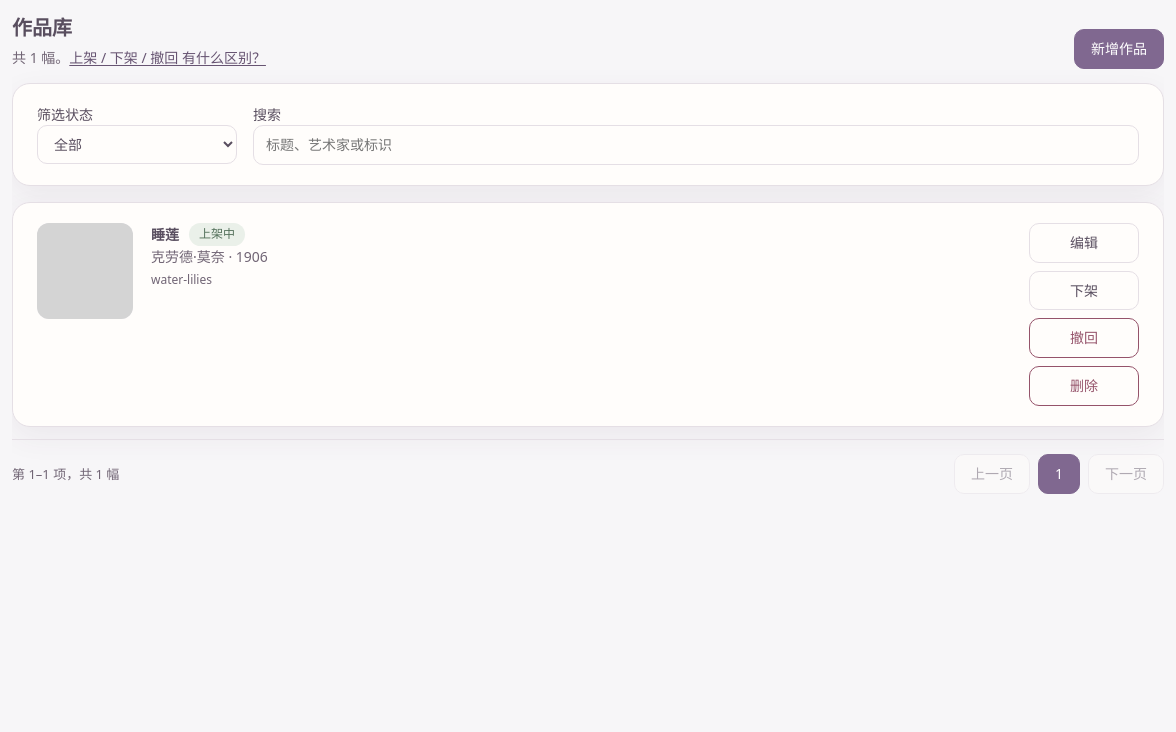
Test: 上架 / 下架 / 撤回的区别说明 › 默认收起，点了才展开
The width and height of the screenshot is (1176, 732).
Check: the text "已收藏的用户仍然能看到自己那幅" is not shown
Click the button "上架 / 下架 / 撤回 有什么区别？" at (168, 58), box [69,47,266,69]
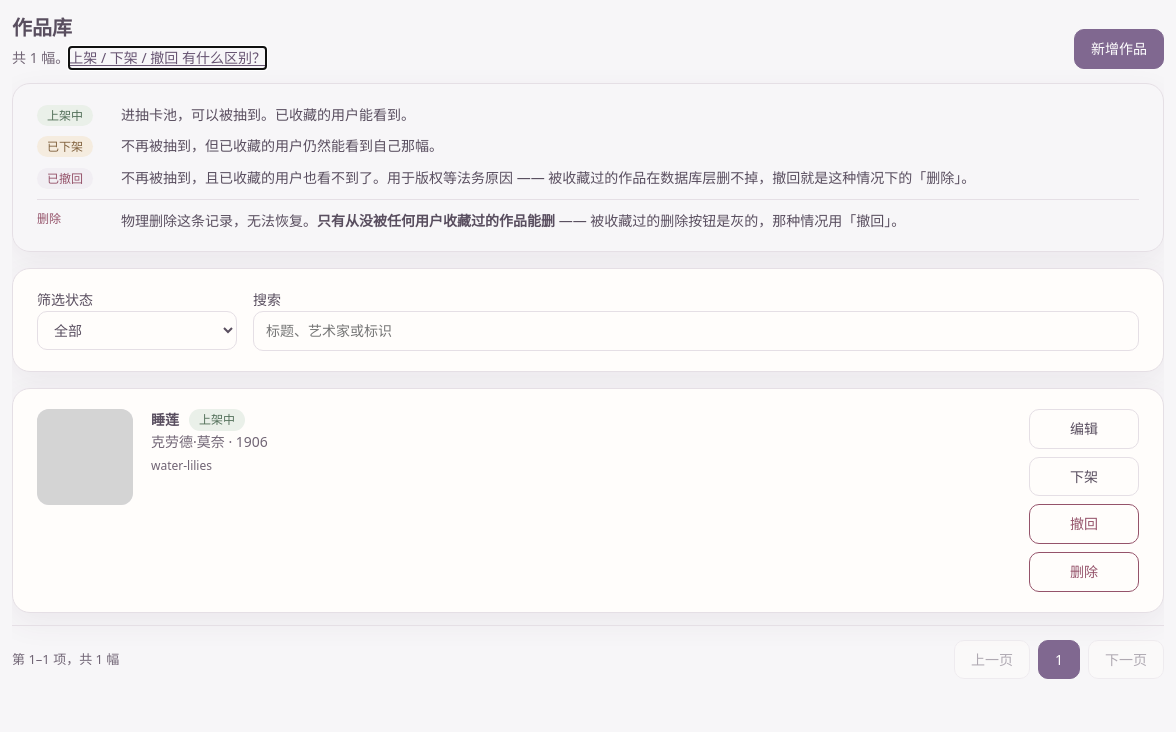
Check: the button "上架 / 下架 / 撤回 有什么区别？" is expanded, box [69,47,266,69]
